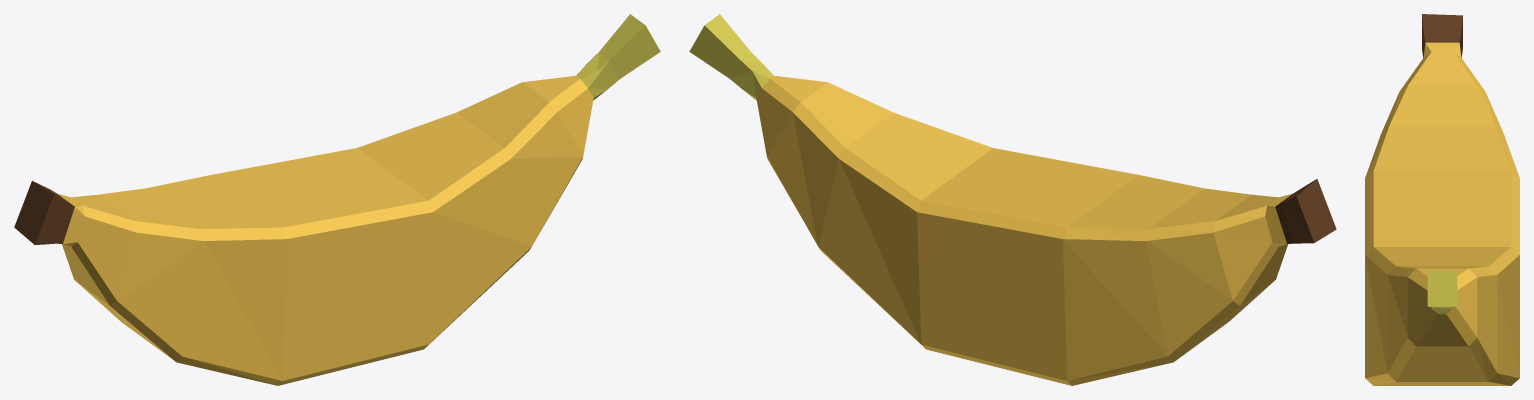
The model's file is Banaan_Animatie.FBX.
3 renders of one model, left to right at view 1: azimuth 30°, elevation 25°; view 2: azimuth 150°, elevation 25°; view 3: azimuth 270°, elevation 25°, orthographic. The views are drawn at different scales.
Parts seen in each view (by area): view 1: Banaan_model; view 2: Banaan_model; view 3: Banaan_model.
Part boxes in pixels (x1,y1,x2,y2): Banaan_model: (14,14,660,385); Banaan_model: (689,14,1336,385); Banaan_model: (1365,14,1519,385).
Size of the model in its own units: 103 by 37.99 by 22.9.
